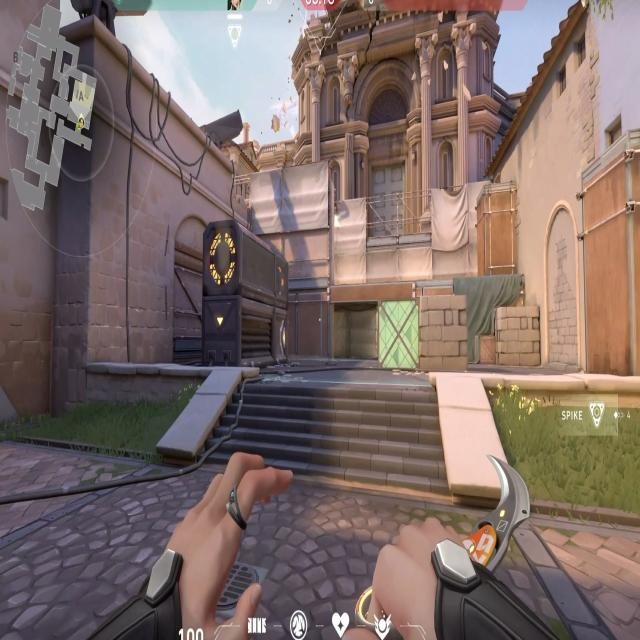A_Heaven_Box: (471, 175, 520, 278)
A_Heaven_Wall: (263, 148, 340, 300)
A_Hell: (314, 275, 383, 365)
A_Site_Box: (371, 284, 477, 377)
